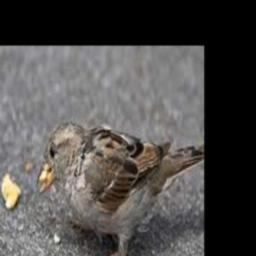Sparrow: (36, 121, 204, 256)
